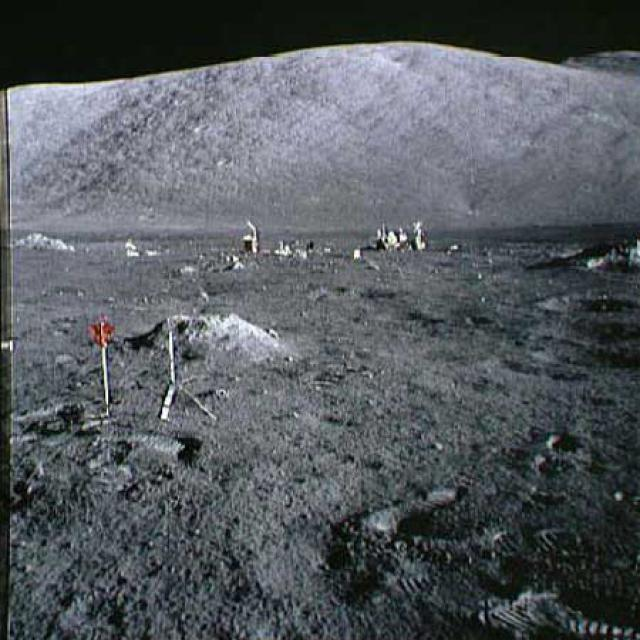artifact: (152, 316, 220, 425), (85, 315, 124, 421), (367, 219, 436, 254), (240, 219, 264, 256)
rock: (132, 311, 277, 359), (11, 230, 71, 254)
